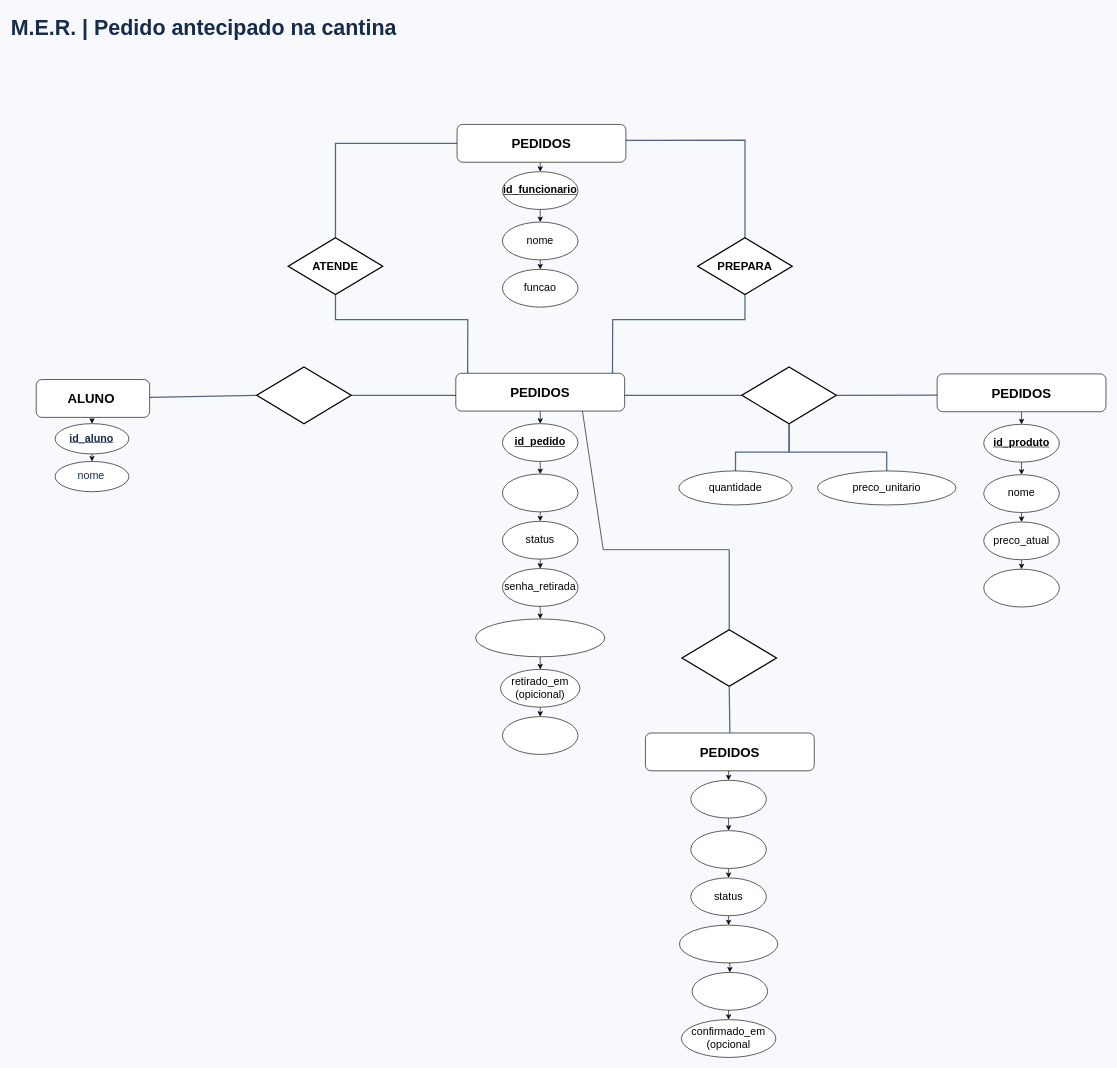
The diagram is 1117 pixels wide and 1068 high, and some of its shapes have lost their labels. Each missing label, with the centre of its shape:
CONTÉM: the point at 789,395
criado_em: the point at 540,492
disponivel: the point at 1021,588
id_pagamento: the point at 728,799
motivo_cancelamento (opcicional): the point at 540,637
POSSUI: the point at 729,658
REALIZA: the point at 304,395
referencia_pix (única): the point at 728,944
solicitado_em: the point at 729,991
total (derivado): the point at 540,735
valor: the point at 728,849
